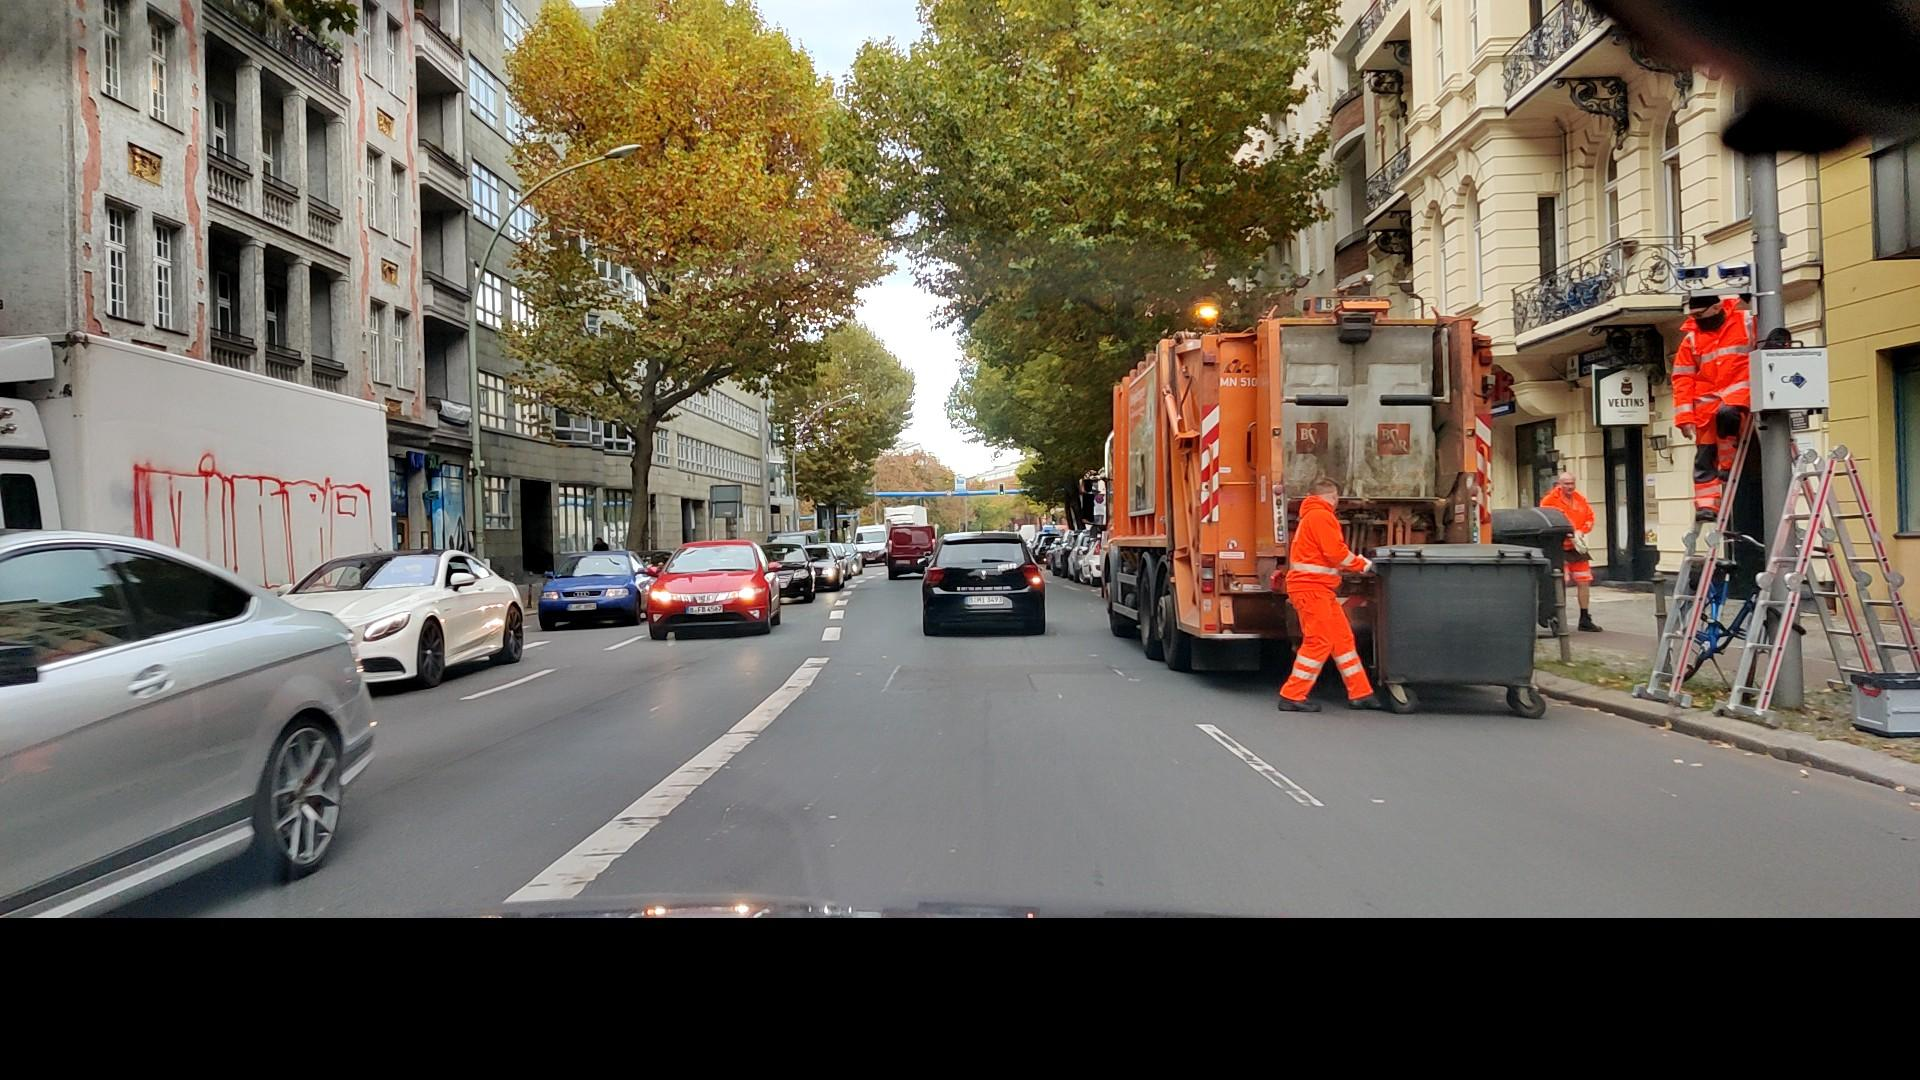Human face: (1688, 291, 1723, 327), (1311, 476, 1341, 512), (1555, 470, 1577, 497)
Vehicle registration plate: (964, 595, 1003, 605), (685, 605, 722, 614), (566, 603, 597, 610)
